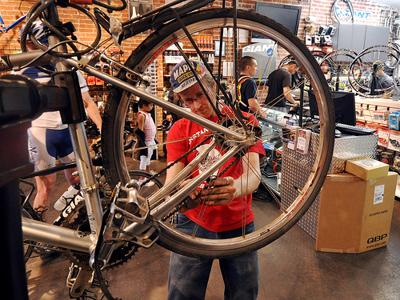person: (163, 58, 262, 300)
